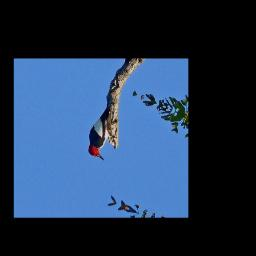Woodpecker: (75, 92, 131, 167)
